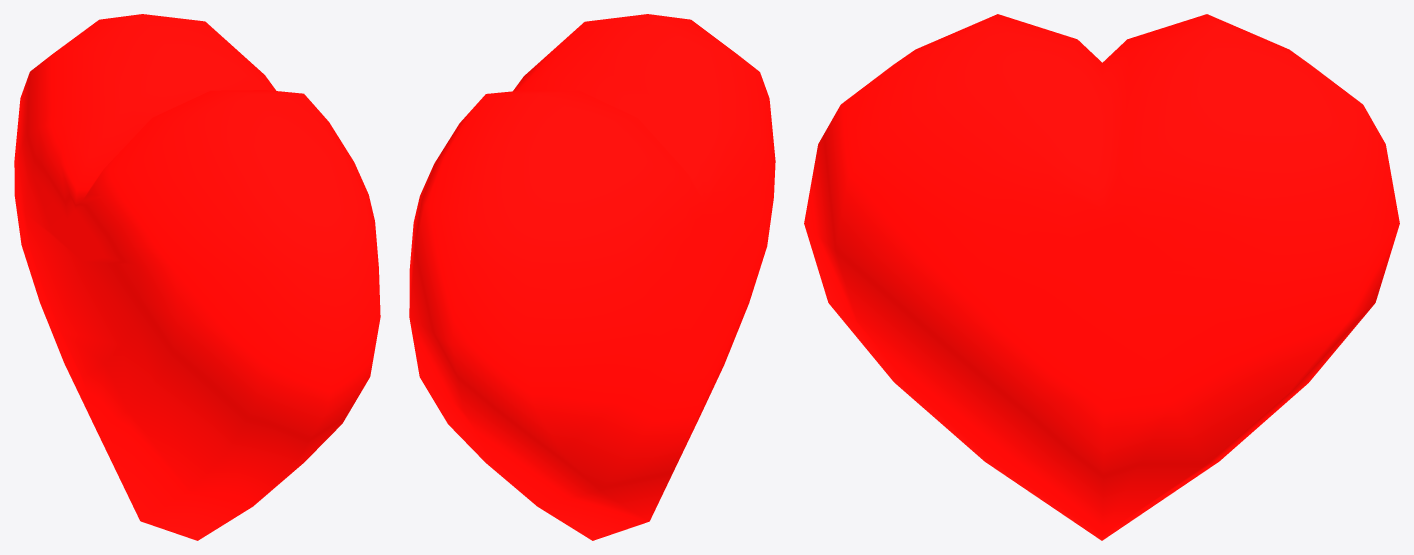
Rendered from heart.glb.
3 views of the same model, side by side, from view 1: azimuth 30°, elevation 25°; view 2: azimuth 150°, elevation 25°; view 3: azimuth 270°, elevation 25° (orthographic). The views are drawn at different scales.
Visible parts, largest first — view 1: Plane; view 2: Plane; view 3: Plane.
Boxes of the visible parts, left/top/right/bottom form: Plane: left=14, top=14, right=380, bottom=540; Plane: left=409, top=14, right=775, bottom=540; Plane: left=804, top=14, right=1399, bottom=540.
Size of the model in its own units: 0.5323 by 1.09 by 1.14.
